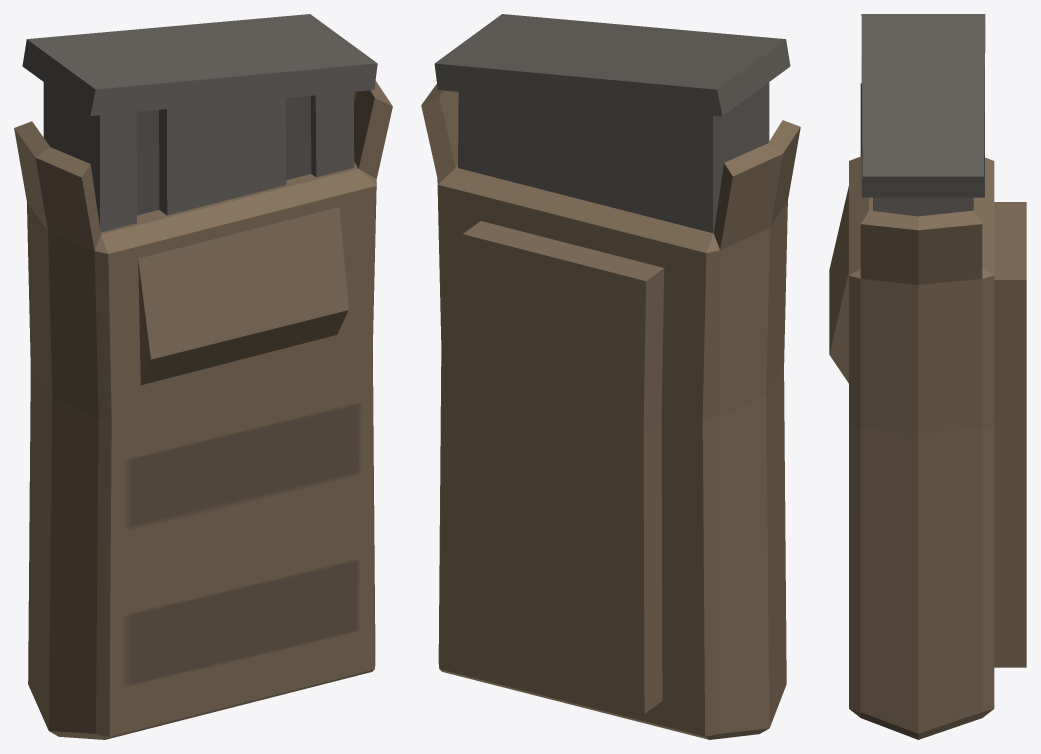
Rendered from Magazine_Pouch_02_SM.FBX.
The picture shows the model from 3 angles, left to right: view 1: azimuth 30°, elevation 25°; view 2: azimuth 150°, elevation 25°; view 3: azimuth 270°, elevation 25°; orthographic projection. The views are drawn at different scales.
Parts seen in each view (by area): view 1: Magazine_Pouch_02_SM; view 2: Magazine_Pouch_02_SM; view 3: Magazine_Pouch_02_SM.
Part boxes in pixels (x1=…): Magazine_Pouch_02_SM: x1=14, y1=14, x2=392, y2=739; Magazine_Pouch_02_SM: x1=421, y1=14, x2=800, y2=739; Magazine_Pouch_02_SM: x1=829, y1=14, x2=1026, y2=739.
Size of what is drawn, in the model's own units: 9.42 by 5.27 by 17.74.
